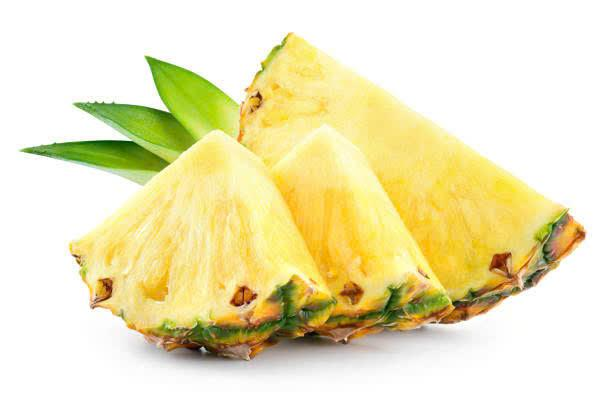pineapple: (248, 27, 586, 329), (63, 128, 328, 348)
